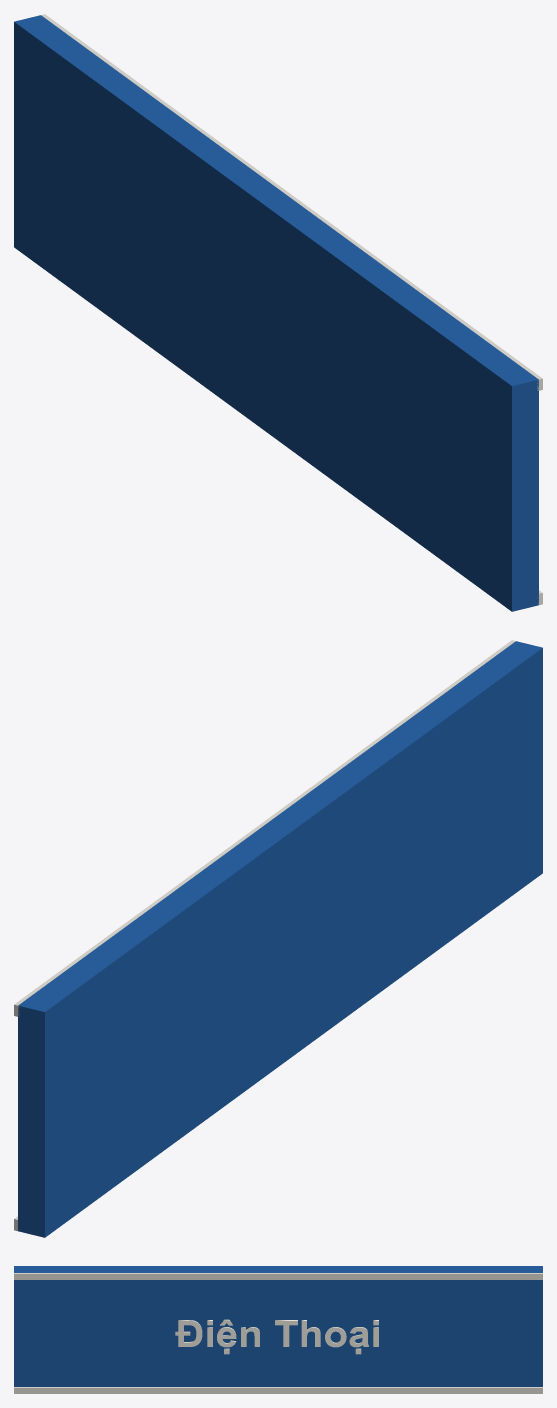
The model's file is OW_Mau_Bang_7_0_10.fbx.
3 renders of one model, top to bottom at view 1: azimuth 30°, elevation 25°; view 2: azimuth 150°, elevation 25°; view 3: azimuth 270°, elevation 25°, orthographic. The views are drawn at different scales.
Visible parts, largest first — view 1: OW_Bang_Điện Thoại.004; view 2: OW_Bang_Điện Thoại.004; view 3: OW_Bang_Điện Thoại.004, Chữ • Điện Thoại.004_Mesh.
Boxes of the visible parts, bbox=[...] form: OW_Bang_Điện Thoại.004: bbox=[14, 14, 542, 611]; OW_Bang_Điện Thoại.004: bbox=[14, 640, 542, 1237]; OW_Bang_Điện Thoại.004: bbox=[14, 1266, 542, 1393]; Chữ • Điện Thoại.004_Mesh: bbox=[175, 1319, 378, 1354].
Bounding box in the file's own units: 0.24 × 1.6 × 6.4.
